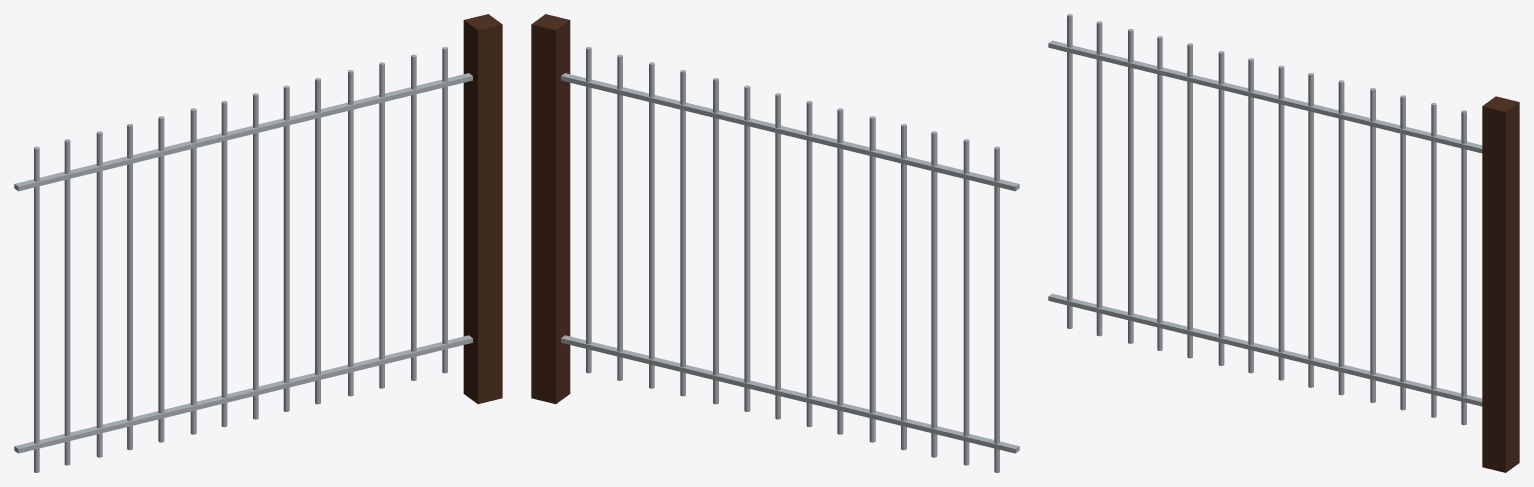
The model's file is MFenceR.fbx.
3 renders of one model, left to right at view 1: azimuth 30°, elevation 25°; view 2: azimuth 150°, elevation 25°; view 3: azimuth 330°, elevation 25°, orthographic. The views are drawn at different scales.
Parts seen in each view (by area): view 1: Cylinder.013, Cube.002, Cube, Cube.001; view 2: Cylinder.013, Cube.002, Cube, Cube.001; view 3: Cylinder.013, Cube.002, Cube.001, Cube.
Part boxes in pixels (x1,y1,x2,y2): Cylinder.013: (34, 47, 447, 472); Cube.002: (463, 14, 502, 404); Cube: (14, 335, 472, 453); Cube.001: (14, 73, 472, 191); Cylinder.013: (586, 47, 999, 472); Cube.002: (531, 14, 570, 404); Cube: (561, 335, 1019, 453); Cube.001: (561, 73, 1019, 191); Cylinder.013: (1067, 14, 1466, 425); Cube.002: (1482, 96, 1519, 472); Cube.001: (1048, 40, 1482, 153); Cube: (1048, 293, 1482, 406).
Size of the model in its own units: 152 by 114 by 7.81.
